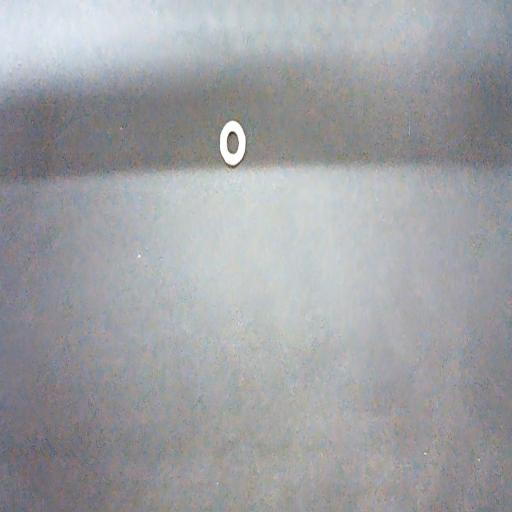washer: (220, 119, 246, 167)
